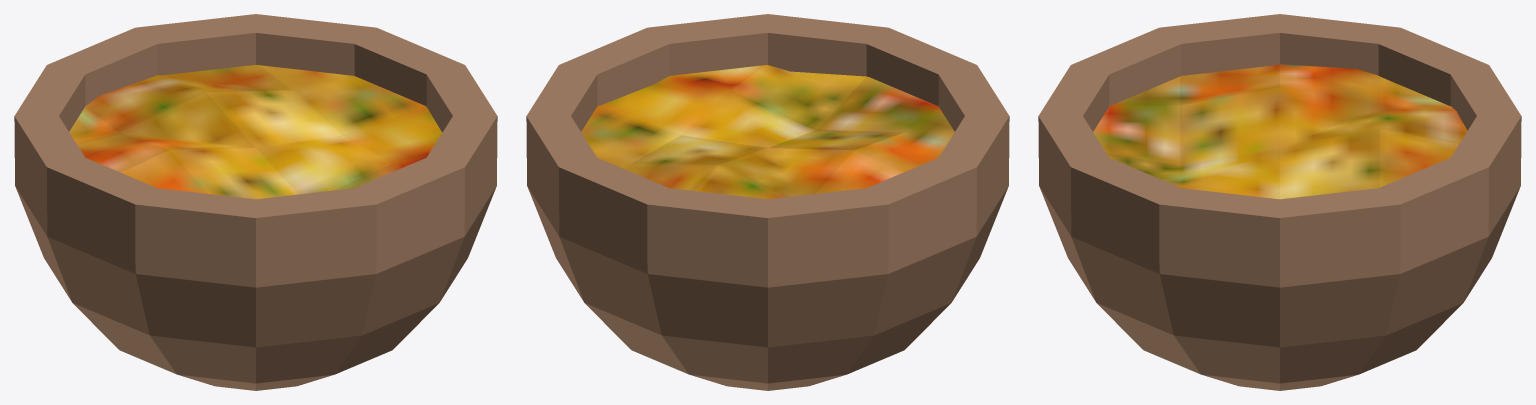
The model's file is soup.fbx.
3 renders of one model, left to right at view 1: azimuth 30°, elevation 25°; view 2: azimuth 150°, elevation 25°; view 3: azimuth 270°, elevation 25°, orthographic.
Visible parts, largest first — view 1: Sphere; view 2: Sphere; view 3: Sphere.
Part boxes in pixels (left/top/right/bottom): Sphere: left=14, top=14, right=497, bottom=390; Sphere: left=526, top=14, right=1009, bottom=390; Sphere: left=1038, top=14, right=1521, bottom=390.
Size of the model in its own units: 0.2353 by 0.1302 by 0.2353.
1 material, 1 textured.
